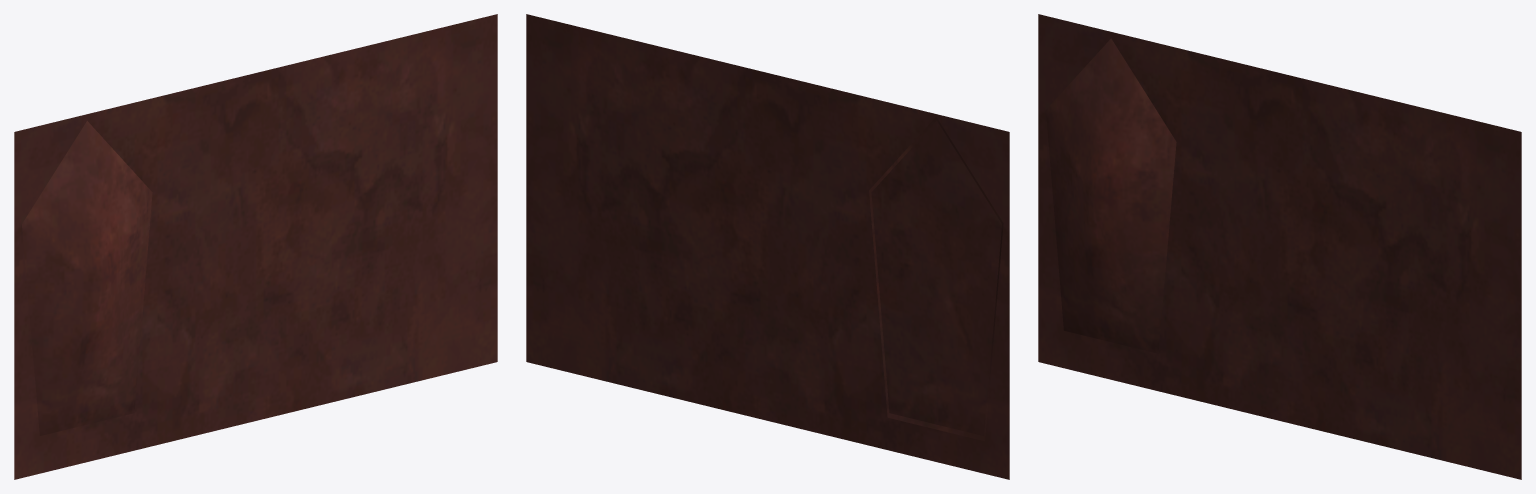
The model's file is lava_half_straight_02.fbx.
3 views of the same model, side by side, from view 1: azimuth 30°, elevation 25°; view 2: azimuth 150°, elevation 25°; view 3: azimuth 330°, elevation 25° (orthographic).
Parts seen in each view (by area): view 1: lava_half_straight_02-0; view 2: lava_half_straight_02-0; view 3: lava_half_straight_02-0.
Boxes of the visible parts, box(x1,y1,x2,y2) form: lava_half_straight_02-0: box(14, 14, 497, 479); lava_half_straight_02-0: box(526, 14, 1009, 479); lava_half_straight_02-0: box(1038, 14, 1521, 479).
Bounding box in the file's own units: 4 × 2.75 × 0.2424.
